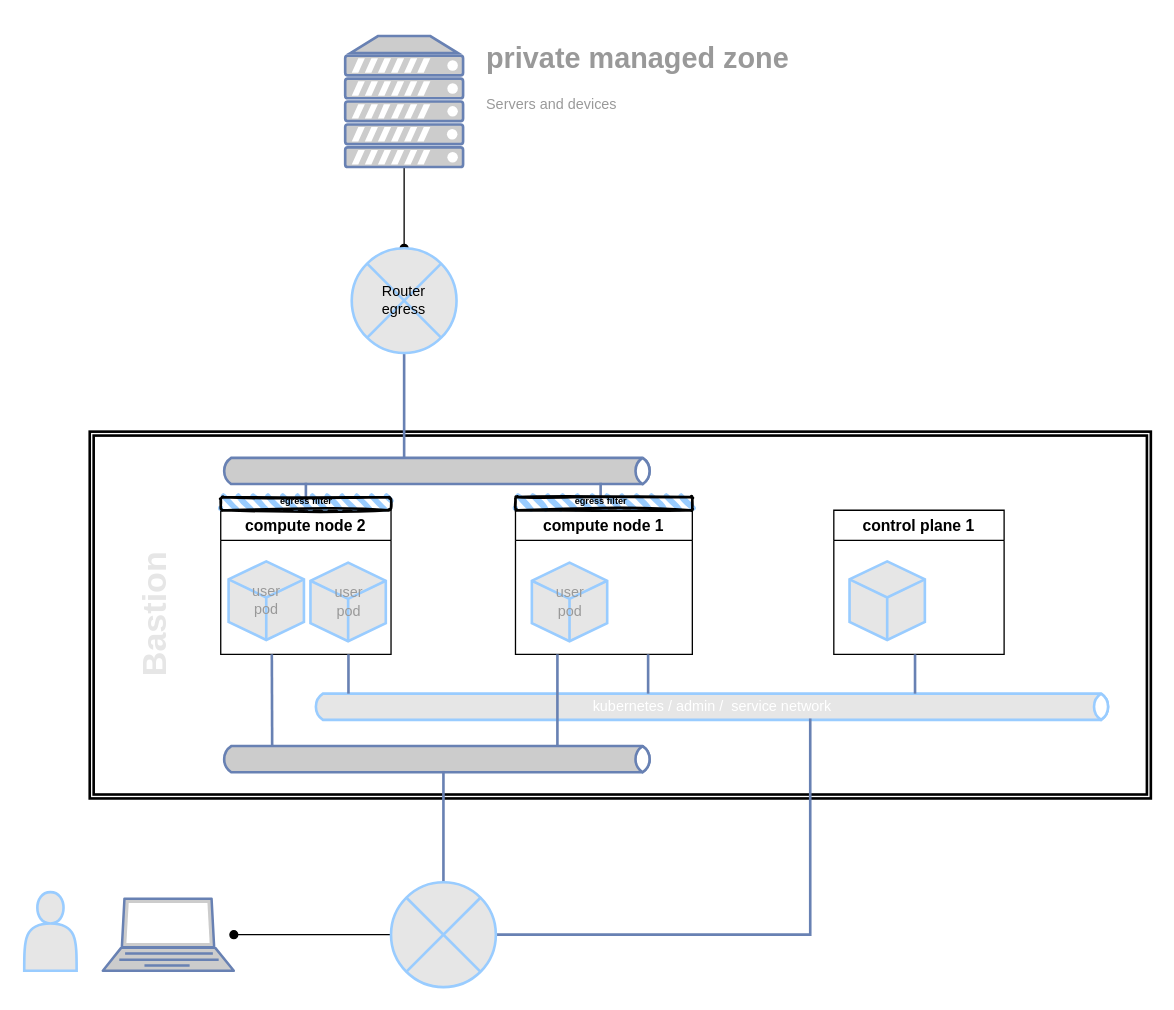
Image size: 1174x1010. Some labels were removed from this diagram. Here are the shapes that lost their labels. From the top down, the centre of each, then its label:
point (436, 470): Pod private network 192.168.2.0/24
point (887, 600): kube
point (436, 758): Pod public network 10.0.1.0/24
point (442, 934): Router ingress
